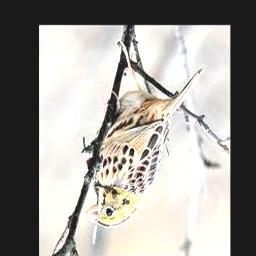Sparrow: (81, 37, 203, 231)
